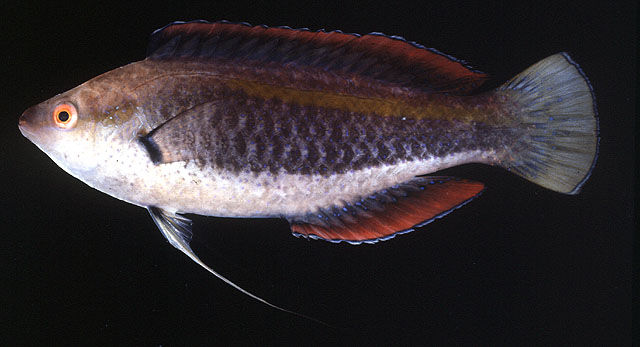fish: (18, 20, 600, 316)
